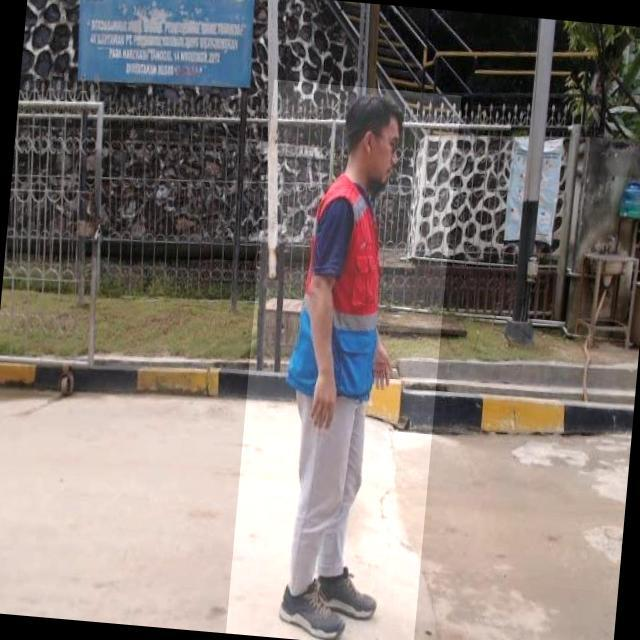Human: (225, 79, 461, 640)
Safety Boot: (309, 560, 400, 624), (267, 572, 352, 640)
Safety Vest: (275, 150, 410, 416)
